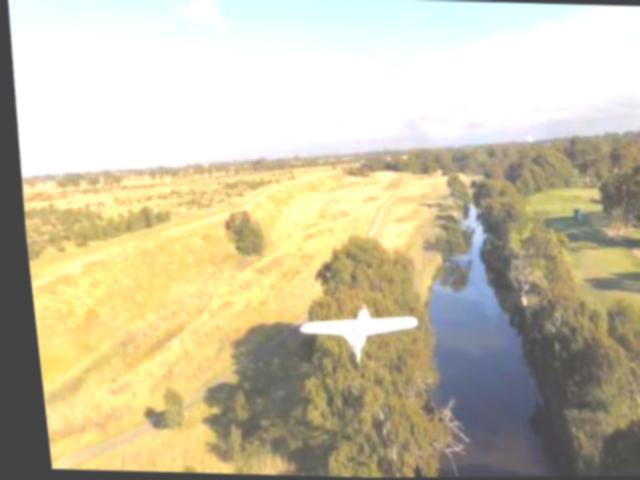uav: (285, 306, 414, 363)
